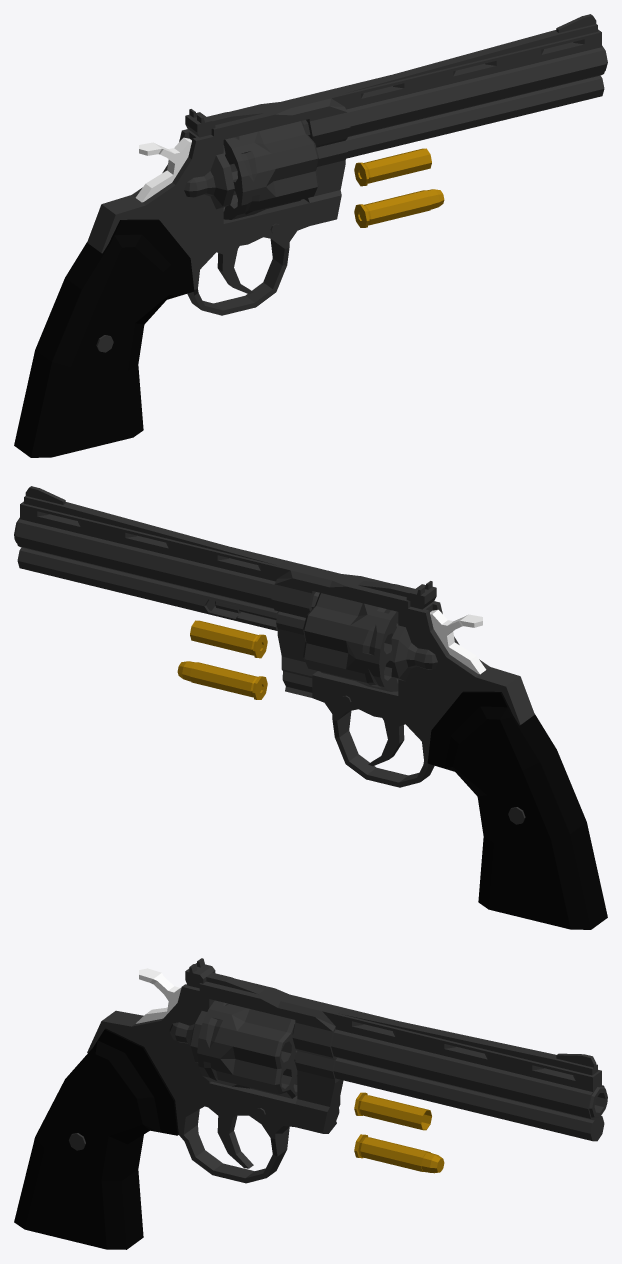
The model's file is colt_python.glb.
3 renders of one model, top to bottom at view 1: azimuth 30°, elevation 25°; view 2: azimuth 150°, elevation 25°; view 3: azimuth 330°, elevation 25°, orthographic.
Visible parts, largest first — view 1: Cylinder.006_2, Cylinder.001_4, Cylinder_0, Cylinder.002_1, Cube.001_6; view 2: Cylinder.006_2, Cylinder.001_4, Cylinder.008_5, Cylinder_0, Cylinder.002_1, Cube.001_6; view 3: Cylinder.006_2, Cylinder.001_4, Cylinder_0, Cylinder.002_1, Cube.001_6.
Boxes of the visible parts, x1,y1,x2,y2 form: Cylinder.006_2: (14, 14, 607, 457); Cylinder.001_4: (223, 121, 318, 219); Cylinder_0: (354, 189, 444, 227); Cylinder.002_1: (354, 148, 431, 186); Cube.001_6: (135, 137, 191, 202); Cylinder.006_2: (14, 486, 607, 929); Cylinder.001_4: (303, 593, 398, 691); Cylinder.008_5: (276, 611, 317, 692); Cylinder_0: (177, 661, 267, 699); Cylinder.002_1: (190, 620, 267, 658); Cube.001_6: (430, 609, 486, 674); Cylinder.006_2: (14, 958, 607, 1249); Cylinder.001_4: (197, 1000, 297, 1098); Cylinder_0: (354, 1134, 444, 1173); Cylinder.002_1: (354, 1092, 431, 1130); Cube.001_6: (136, 968, 186, 1023).
Size of the model in its own units: 2.88 by 1.42 by 0.3949.
